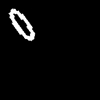chain: (9, 9, 34, 40)
